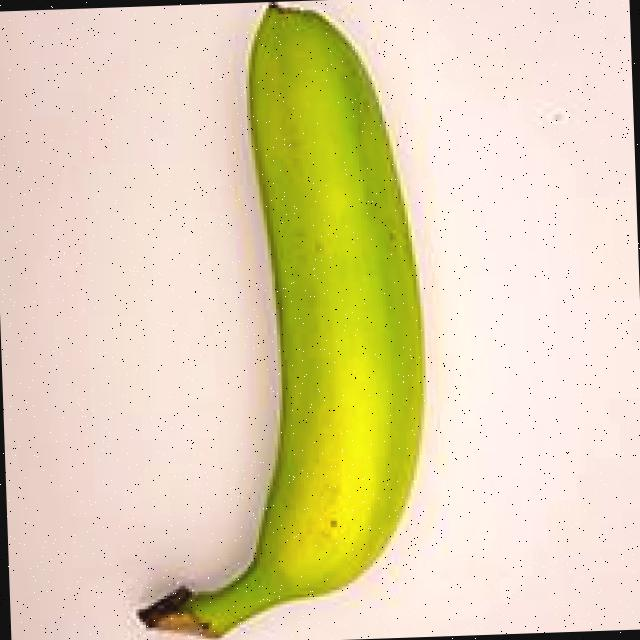Unripe: (73, 0, 475, 640)
